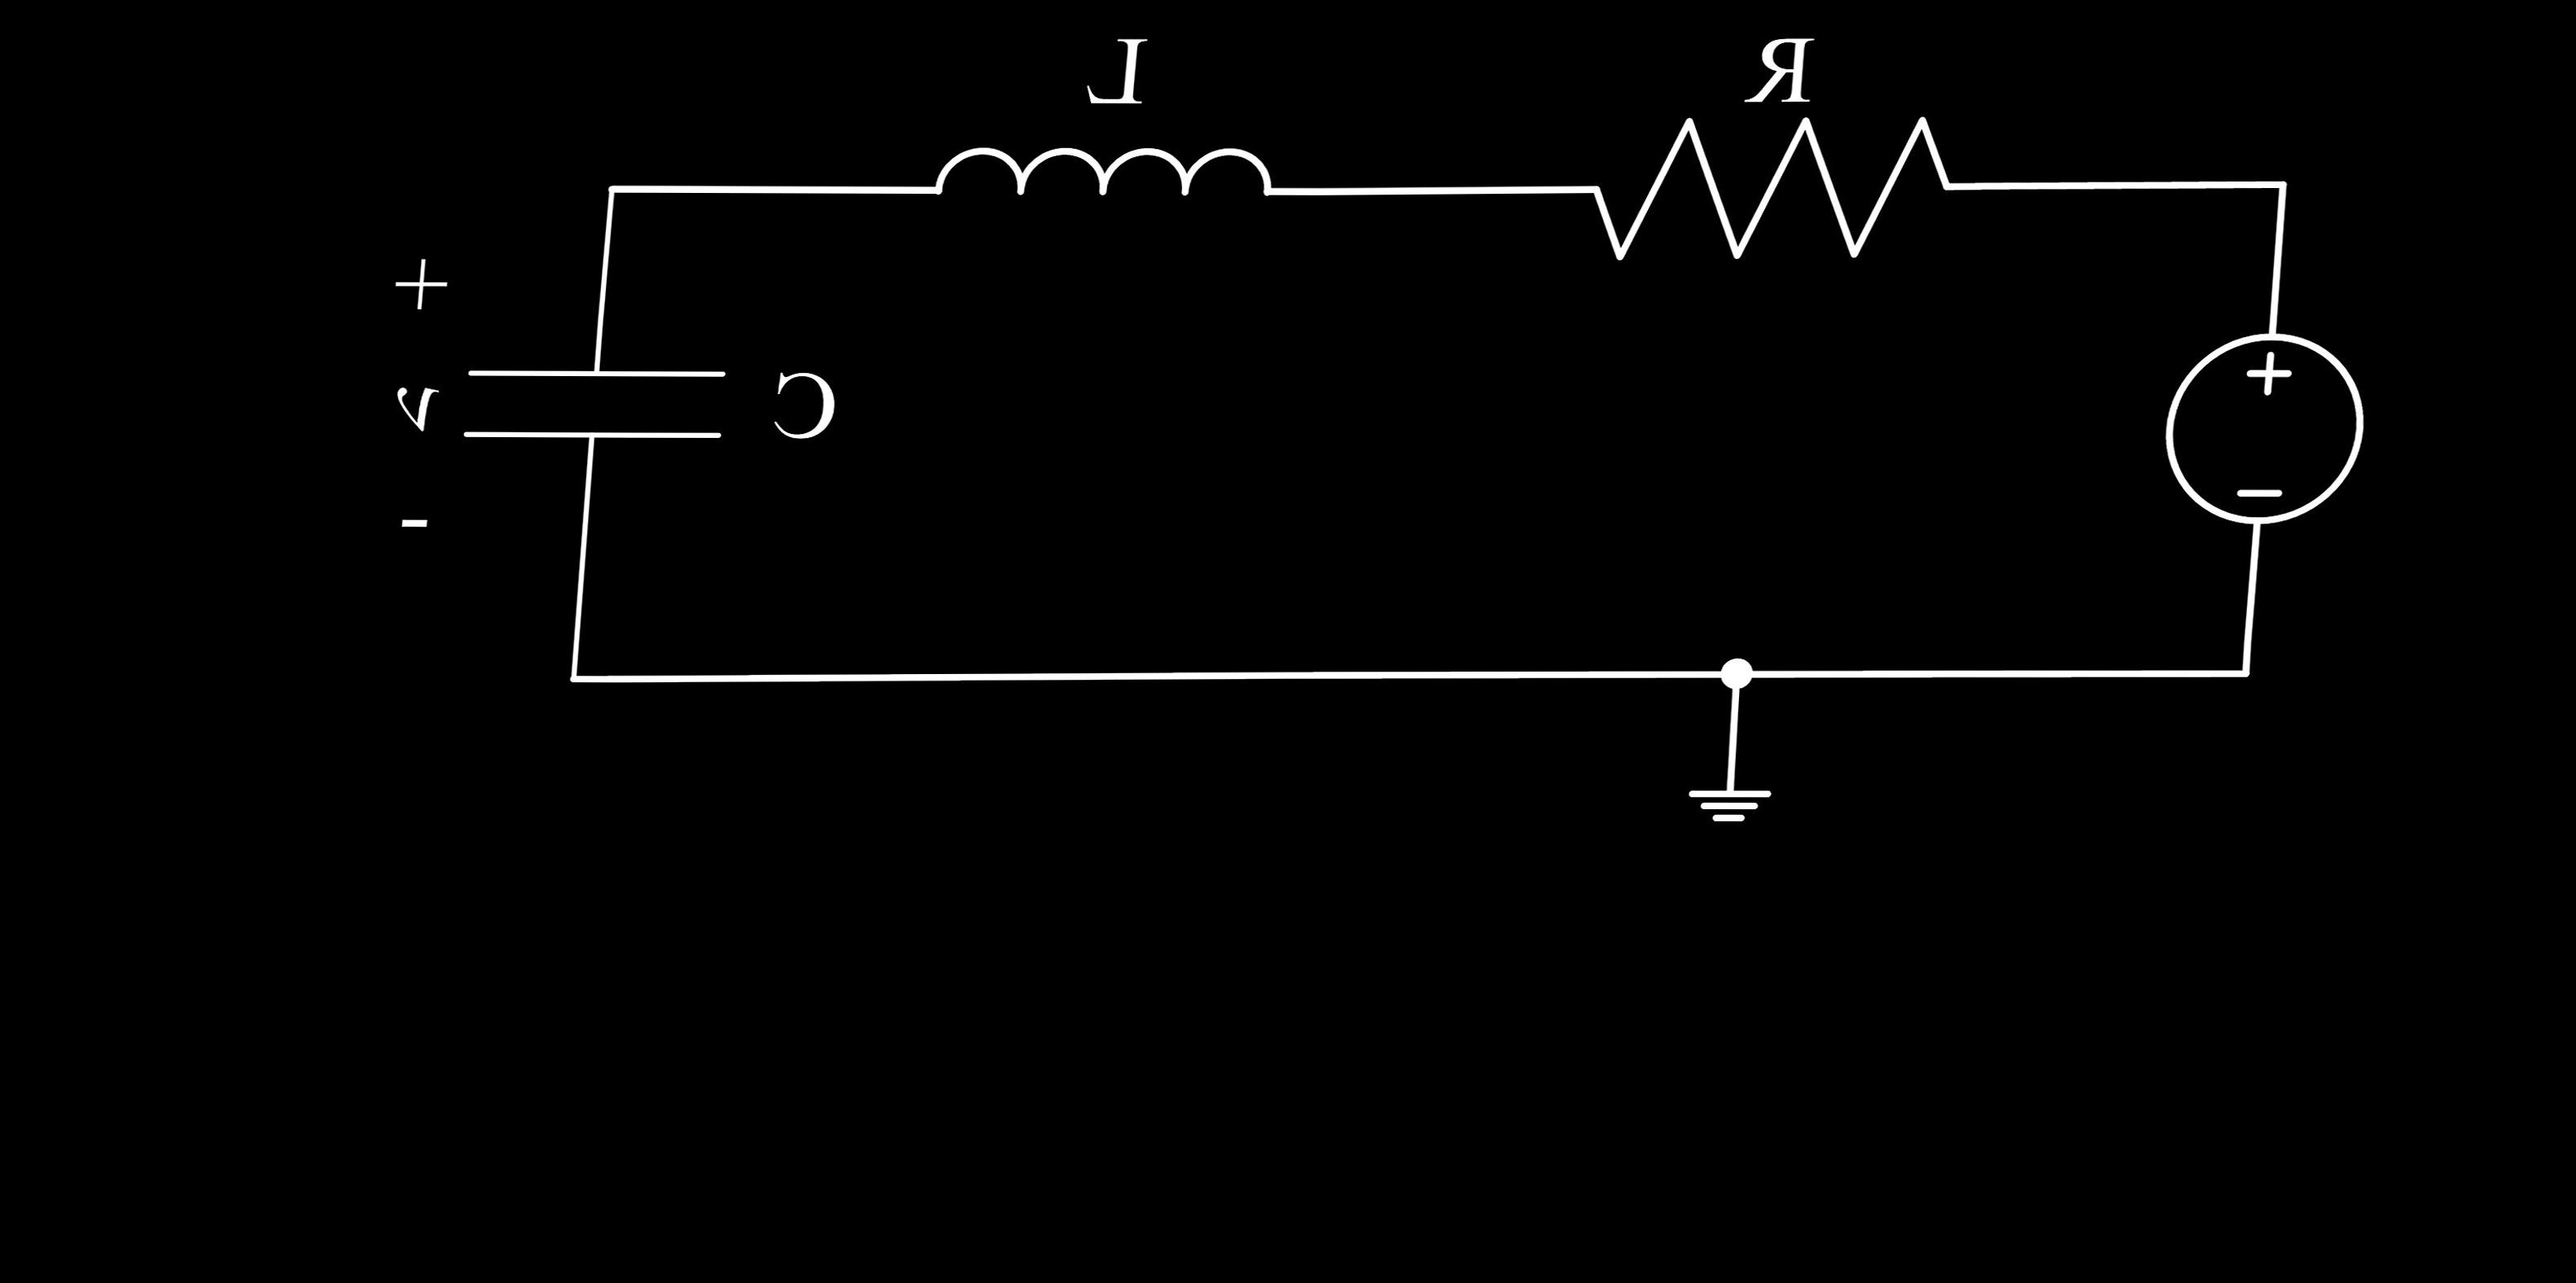Battery: (2086, 260, 2413, 608)
